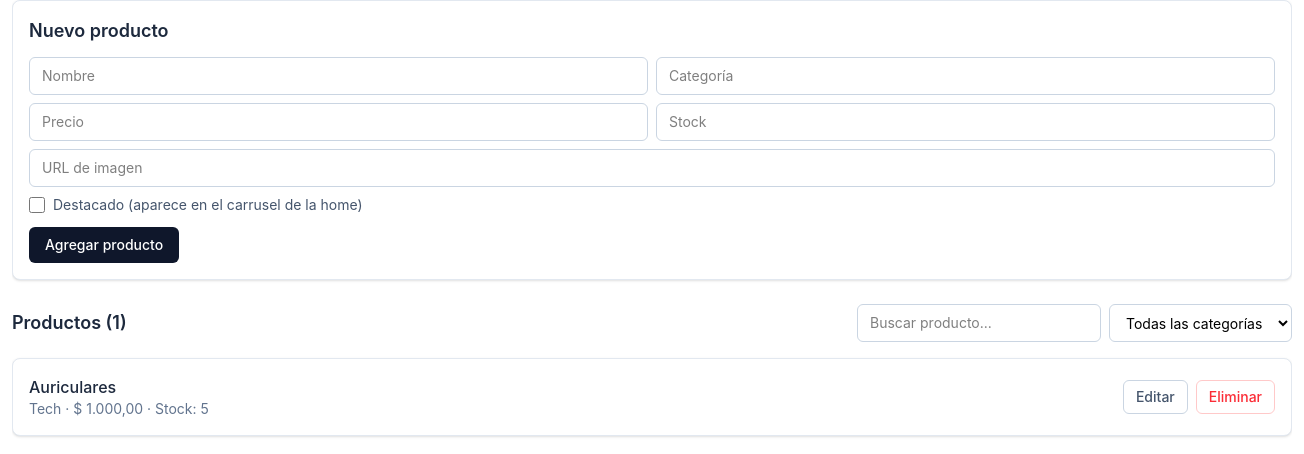
AdminProducts › muestra un mensaje si ningún producto coincide con los filtros
The image size is (1304, 454).
Expected: the text "Auriculares" is shown, [29,377,116,397]
Type "inexistente" into the field with placeholder "Buscar producto...".
click(979, 323); type("inexistente")  # box [857,304,1101,342]
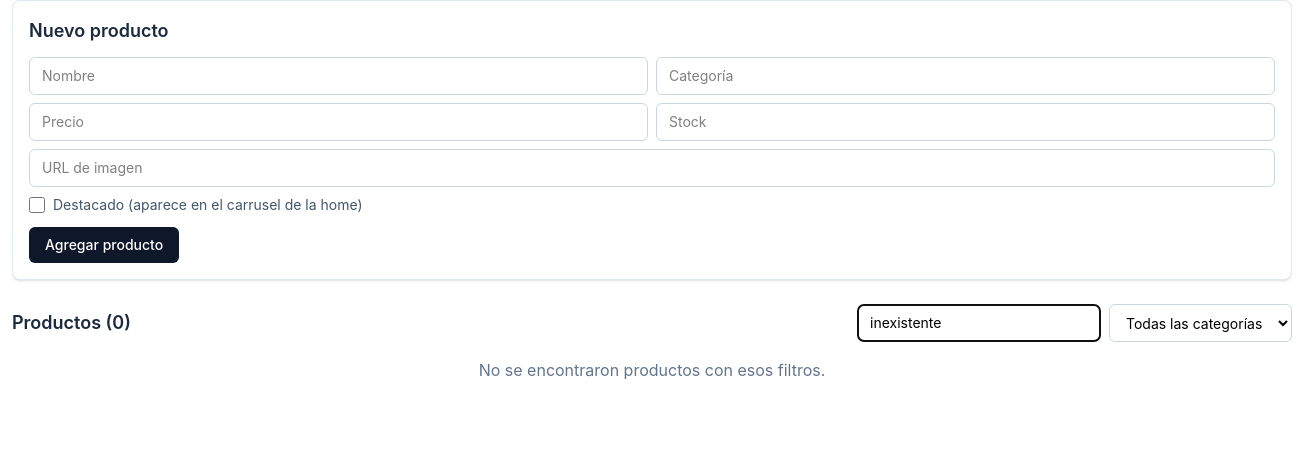
Result: the text "No se encontraron productos con esos filtros." is shown at [479,360,825,380]
